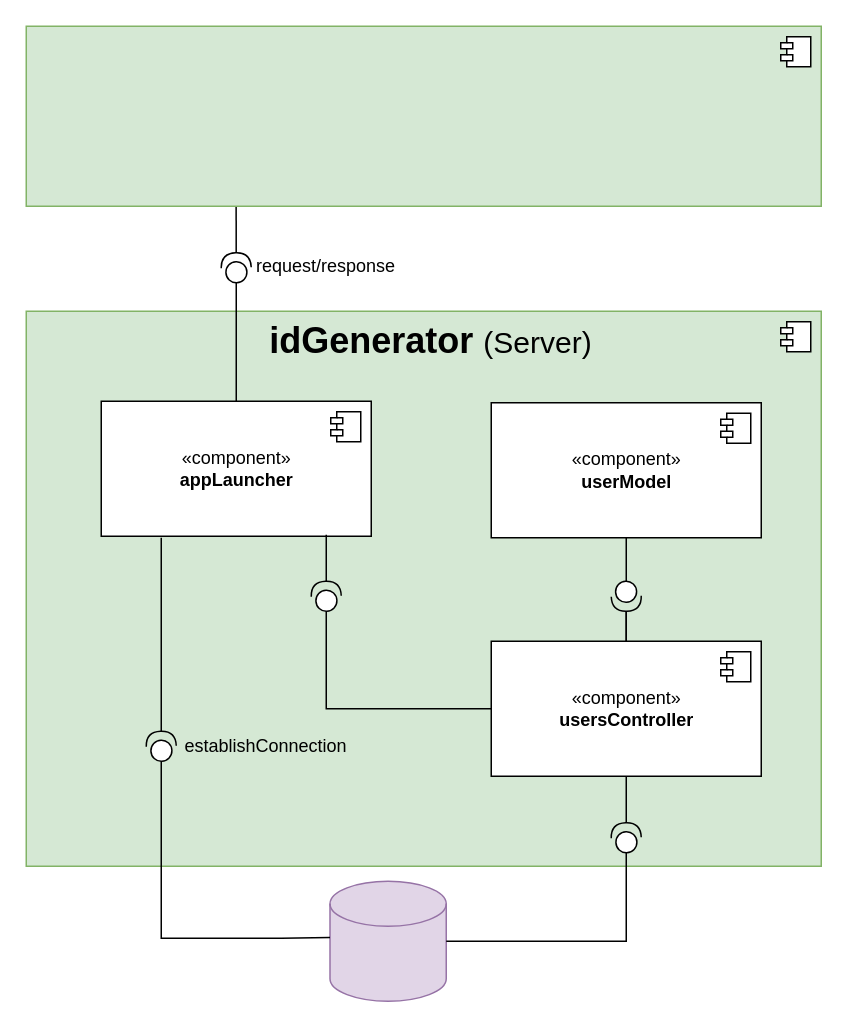
Some shapes in this 848 by 1028 pixel diagram are drawn without their labels. Each missing label, with the centre of its shape:
(MongoDB) users DB: (x=387, y=940)
bookingUI (Client): (x=423, y=115)
